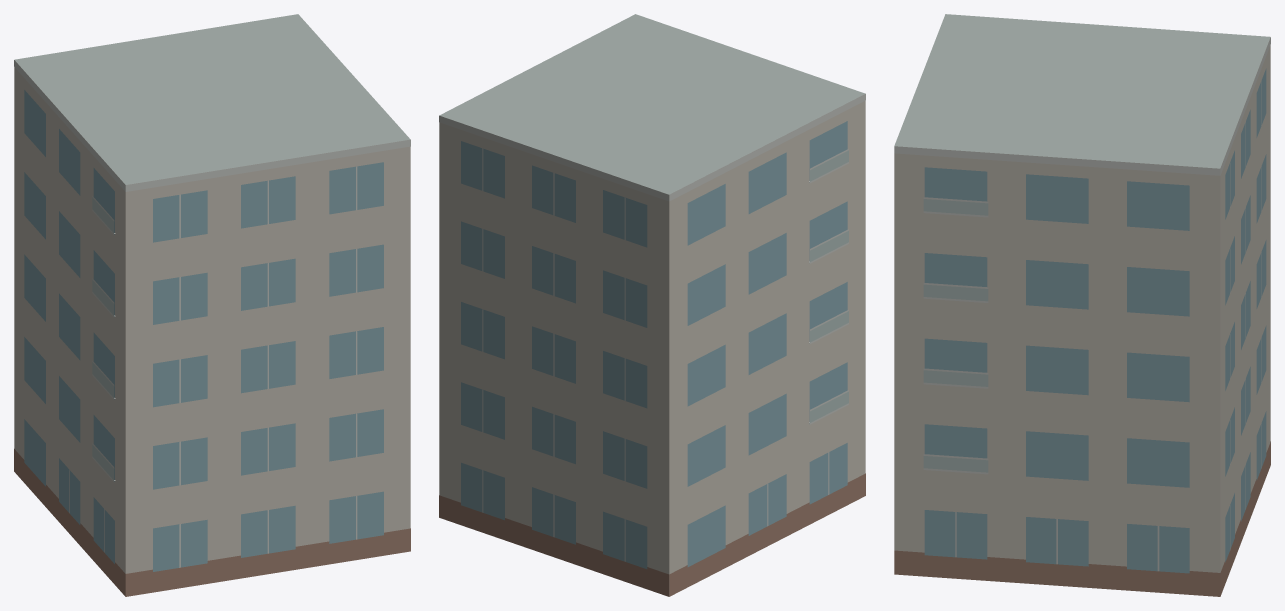
File: survey-upis-32697975.glb
3 renders of one model, left to right at view 1: azimuth 30°, elevation 25°; view 2: azimuth 150°, elevation 25°; view 3: azimuth 270°, elevation 25°, orthographic. The views are drawn at different scales.
Visible parts, largest first — view 1: survey-upis-32697975.tmp; view 2: survey-upis-32697975.tmp; view 3: survey-upis-32697975.tmp.
Boxes of the visible parts, x1,y1,x2,y2 form: survey-upis-32697975.tmp: [14, 14, 410, 596]; survey-upis-32697975.tmp: [439, 14, 865, 596]; survey-upis-32697975.tmp: [894, 14, 1270, 596].
Bounding box in the file's own units: 11.25 × 14.51 × 11.58.
